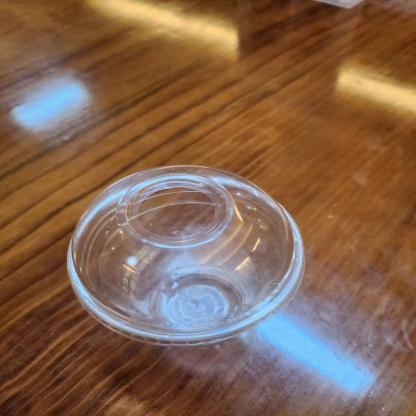Plastic Cup: (60, 162, 312, 354)
